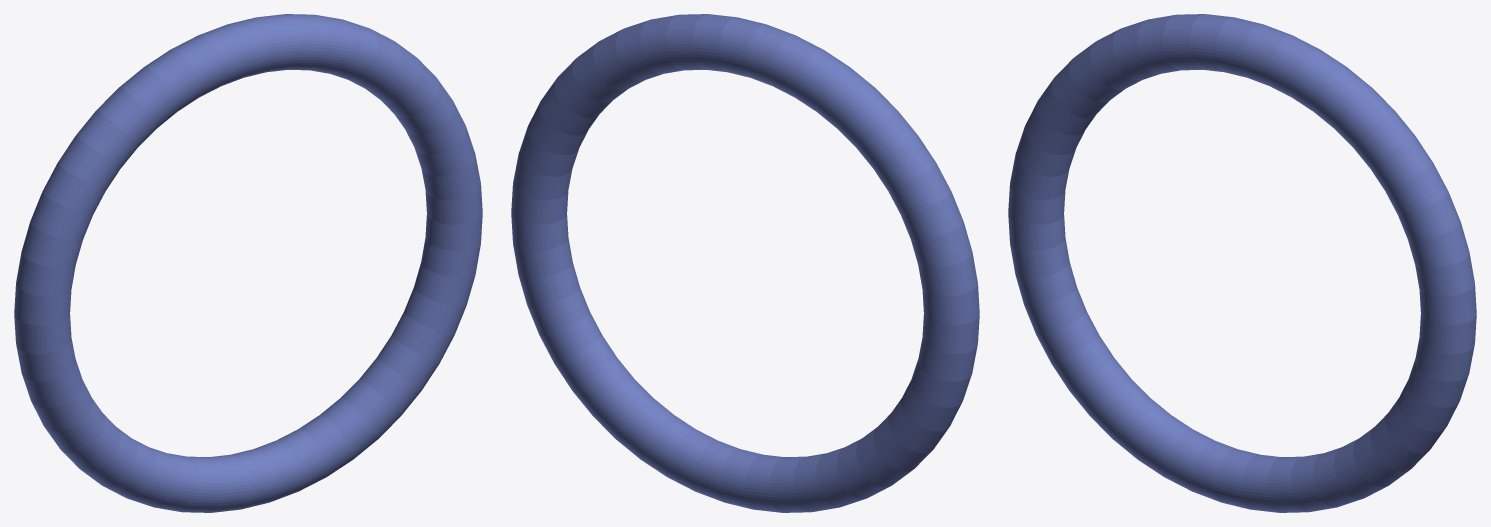
3 renders of one model, left to right at view 1: azimuth 30°, elevation 25°; view 2: azimuth 150°, elevation 25°; view 3: azimuth 330°, elevation 25°, orthographic.
Visible parts, largest first — view 1: world; view 2: world; view 3: world.
Boxes of the visible parts, x1=… form: world: x1=14, y1=14, x2=482, y2=512; world: x1=511, y1=14, x2=979, y2=512; world: x1=1008, y1=14, x2=1476, y2=512.
Size of the model in its own units: 21.6 by 21.56 by 2.26.
